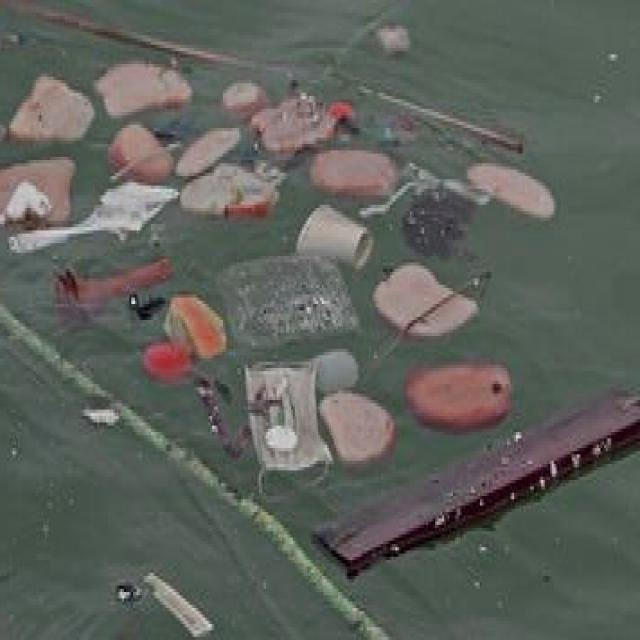Trash: (213, 250, 363, 351), (2, 181, 181, 253), (245, 358, 328, 508), (401, 344, 512, 438), (367, 262, 485, 335), (321, 371, 402, 466), (53, 258, 181, 315), (90, 56, 196, 123), (2, 73, 95, 147), (286, 198, 374, 272), (138, 562, 219, 640), (0, 152, 77, 230), (466, 155, 556, 221), (176, 166, 287, 217), (252, 101, 336, 157), (399, 196, 480, 254), (102, 118, 174, 182), (166, 283, 224, 360), (308, 146, 396, 193), (174, 123, 247, 178), (297, 351, 375, 392), (135, 340, 195, 386), (219, 78, 272, 111), (374, 19, 413, 61)
